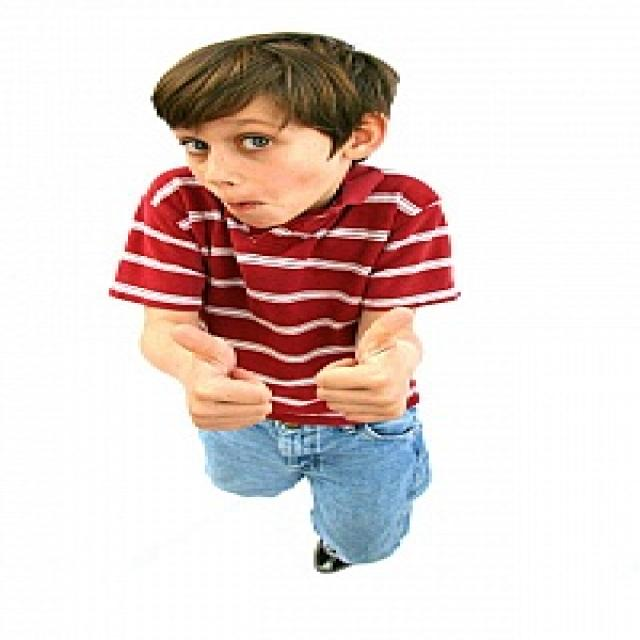Eyes: (176, 124, 288, 163)
